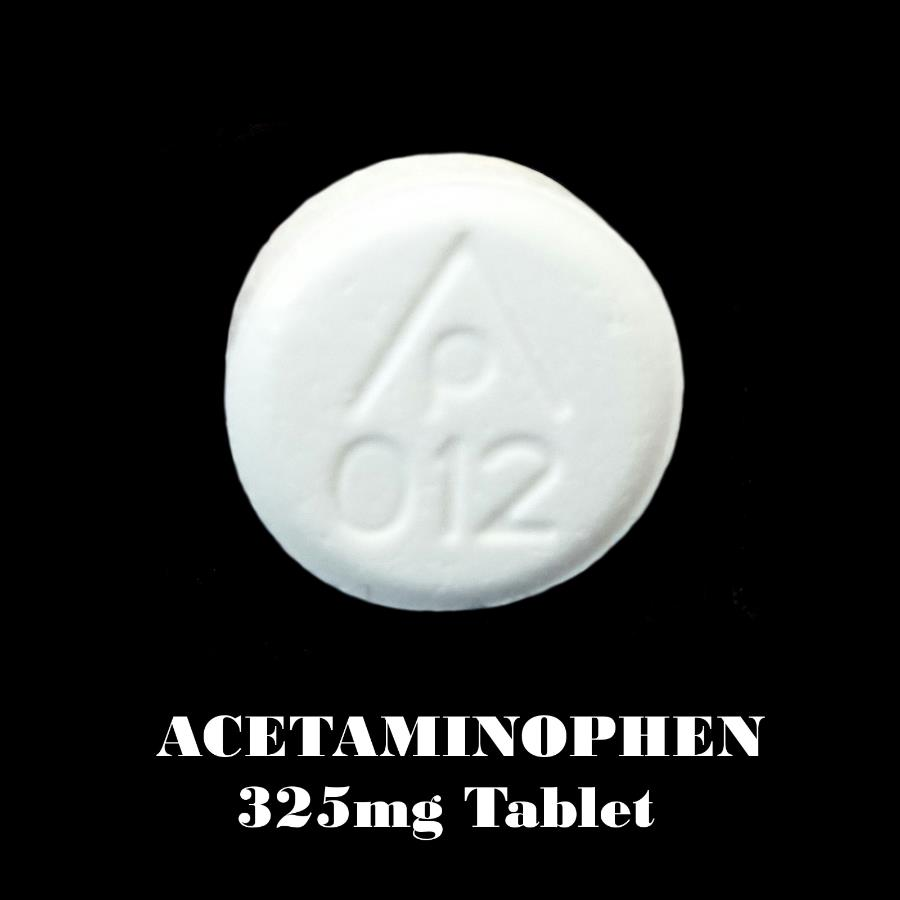Acetaminophen 325 MG Oral Tablet: (211, 141, 700, 631)
